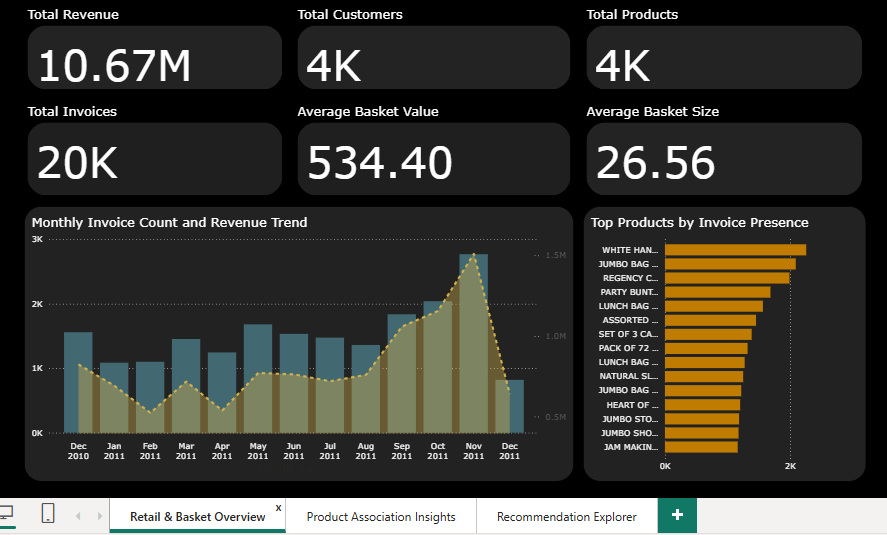

This screenshot's page, from the dashboard's own definition file:
{"tool":"powerbi","page":{"name":"Retail & Basket Overview","canvas":[1280,720],"ordinal":0},"visuals":[{"type":"cardVisual","title":"Total Revenue","fields":{"Data":["Sum(kpi_summary_sql.Total_Revenue)"]},"box":[34.6,11.5,377.3,125.3],"z":0},{"type":"cardVisual","title":"Total Products","fields":{"Data":["Sum(kpi_summary_sql.Total_Products)"]},"box":[839.5,11.5,407.5,125.3],"z":1000},{"type":"cardVisual","title":"Total Invoices","fields":{"Data":["Sum(kpi_summary_sql.Total_Invoices)"]},"box":[34.6,151.2,377.3,138.2],"z":2000},{"type":"cardVisual","title":"Total Customers","fields":{"Data":["Sum(kpi_summary_sql.Total_Customers)"]},"box":[423.4,11.5,403.2,125.3],"z":3000},{"type":"cardVisual","title":"Average Basket Value","fields":{"Data":["Sum(kpi_summary_sql.Avg_Basket_Value)"]},"box":[423.4,151.2,403.2,138.2],"z":4000},{"type":"cardVisual","title":"Average Basket Size","fields":{"Data":["Sum(kpi_summary_sql.Avg_Basket_Size)"]},"box":[839.5,151.2,407.5,138.2],"z":5000},{"type":"lineClusteredColumnComboChart","title":"Monthly Invoice Count and Revenue Trend","fields":{"Y":["Sum(monthly_trend_sql.Monthly_Invoice_Count)"],"Y2":["Sum(monthly_trend_sql.Monthly_Revenue)"],"Category":["monthly_trend_sql.Month_Label"]},"box":[34.6,299.5,792,397.4],"z":6000},{"type":"clusteredBarChart","title":"Top Products by Invoice Presence","fields":{"Category":["product_presence_sql.Description"],"Y":["Sum(product_presence_sql.Invoice_Presence_Count)"]},"box":[839.5,299.5,407.5,397.4],"z":7000}]}

Visuals, with their boxes on the page's 1280x720 design canvas (x1, y1, x2, y2). These are canvas units, not pixel positions in the 887x535 screenshot, which may show the page scaled, cropped or inside an application window:
"Total Revenue" cardVisual: x1=35 y1=12 x2=412 y2=137
"Total Products" cardVisual: x1=840 y1=12 x2=1247 y2=137
"Total Invoices" cardVisual: x1=35 y1=151 x2=412 y2=289
"Total Customers" cardVisual: x1=423 y1=12 x2=827 y2=137
"Average Basket Value" cardVisual: x1=423 y1=151 x2=827 y2=289
"Average Basket Size" cardVisual: x1=840 y1=151 x2=1247 y2=289
"Monthly Invoice Count and Revenue Trend" lineClusteredColumnComboChart: x1=35 y1=300 x2=827 y2=697
"Top Products by Invoice Presence" clusteredBarChart: x1=840 y1=300 x2=1247 y2=697
